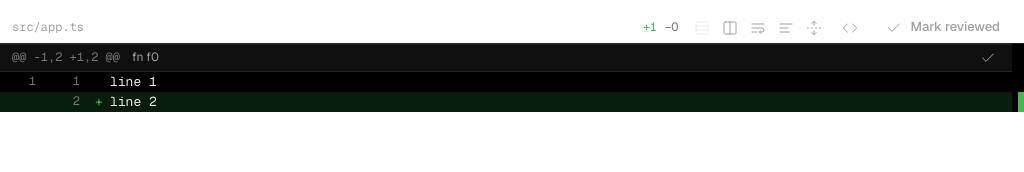
Test: DiffView › closes the line menu when another file opens
Step 1. Right-click the element with test id "diff-row" showing "2 + line 2" → (506, 102), box left=0, top=92, right=1012, bottom=112
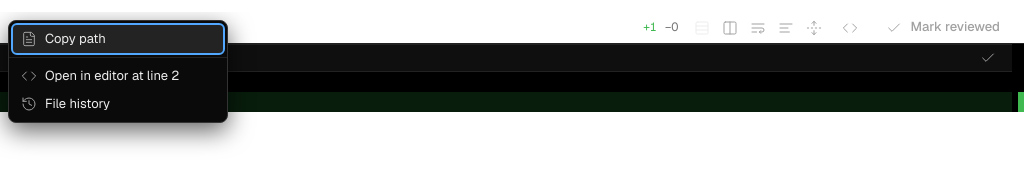
expect the menu with test id "line-menu" is shown: met, box left=8, top=20, right=228, bottom=123
